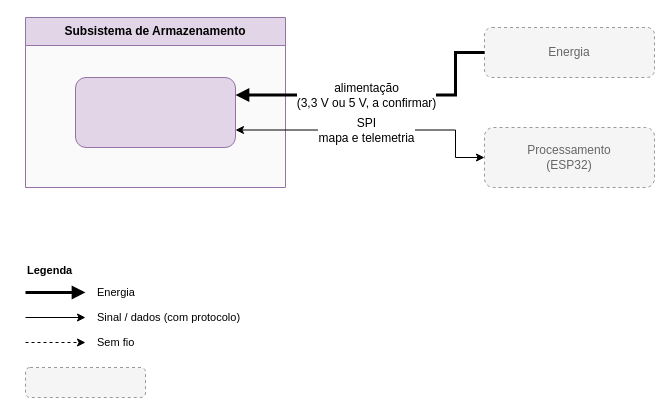
This 672x415 diagram has some shape labels left out. Each missing label, with the box of its shape:
Módulo microSD HW-125: (74, 76, 236, 148)
Outro subsistema: (24, 366, 146, 398)
